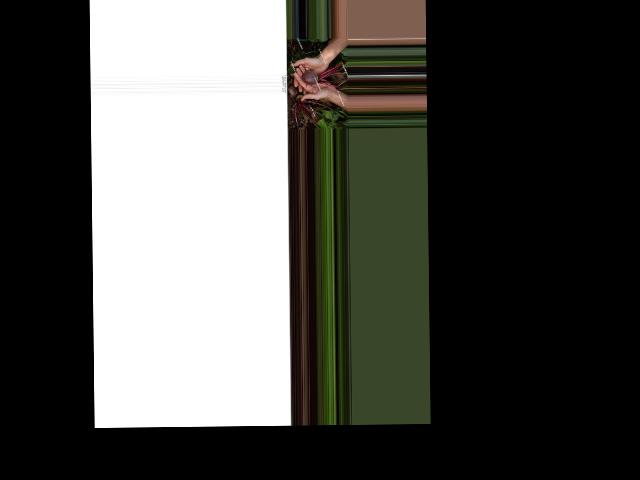beet: (300, 60, 346, 88)
